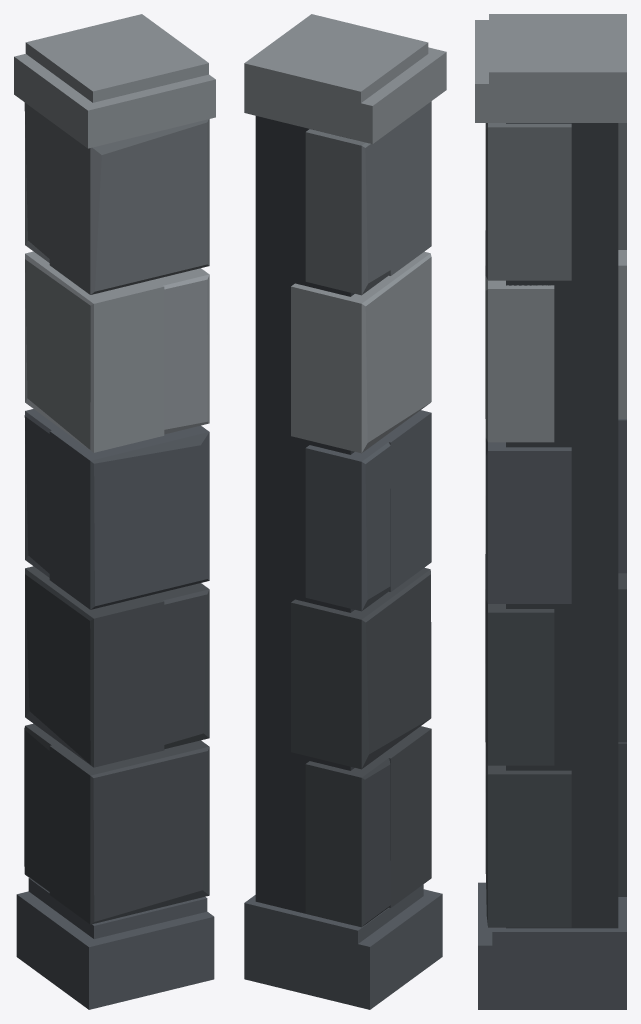
Rendered from mdvl_dungeon_corner_01.glb.
The picture shows the model from 3 angles, left to right: view 1: azimuth 30°, elevation 25°; view 2: azimuth 150°, elevation 25°; view 3: azimuth 270°, elevation 25°; orthographic projection. The views are drawn at different scales.
Visible parts, largest first — view 1: mdvl_dungeon_corner_01; view 2: mdvl_dungeon_corner_01; view 3: mdvl_dungeon_corner_01.
Part boxes in pixels (left/top/right/bottom): mdvl_dungeon_corner_01: left=14, top=14, right=215, bottom=1009; mdvl_dungeon_corner_01: left=244, top=14, right=446, bottom=1009; mdvl_dungeon_corner_01: left=475, top=14, right=626, bottom=1009.
Bounding box in the file's own units: 0.352 × 2.4 × 0.352.
1 material, 1 textured.
